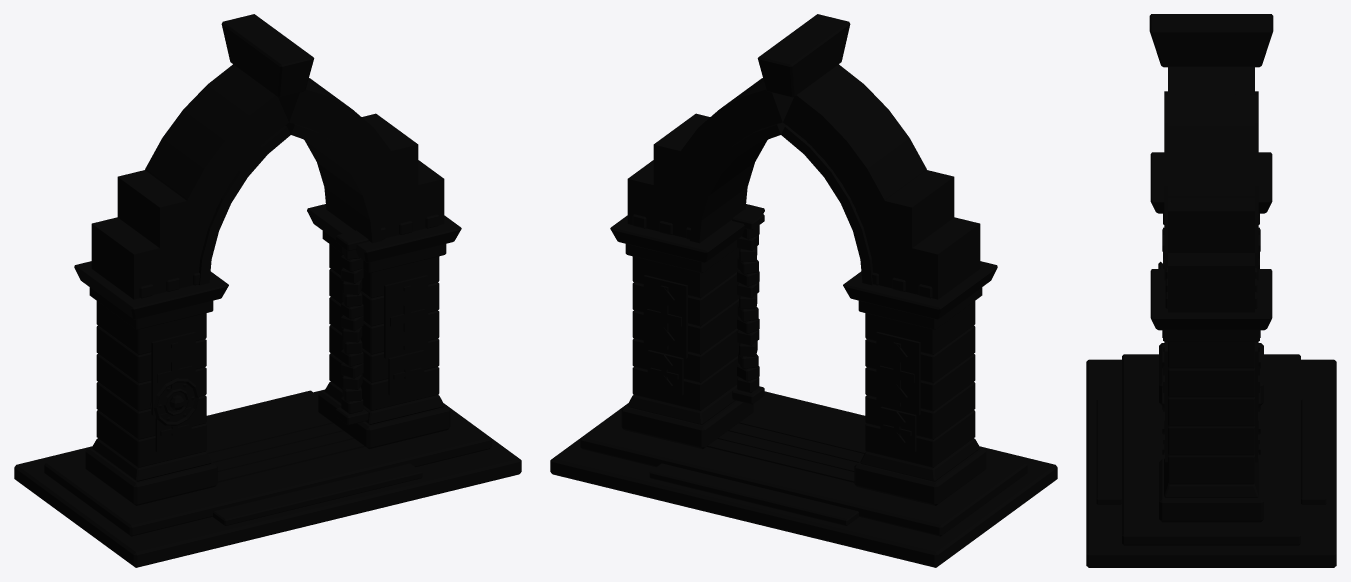
Rendered from Props_Colosseum_Portal.fbx.
3 views of the same model, side by side, from view 1: azimuth 30°, elevation 25°; view 2: azimuth 150°, elevation 25°; view 3: azimuth 270°, elevation 25° (orthographic). The views are drawn at different scales.
Parts seen in each view (by area): view 1: Colosseum_Portal; view 2: Colosseum_Portal; view 3: Colosseum_Portal.
Boxes of the visible parts, bbox=[...] form: Colosseum_Portal: bbox=[14, 14, 521, 567]; Colosseum_Portal: bbox=[550, 14, 1057, 567]; Colosseum_Portal: bbox=[1086, 14, 1336, 567].
Bounding box in the file's own units: 18 × 19.43 × 9.8.
